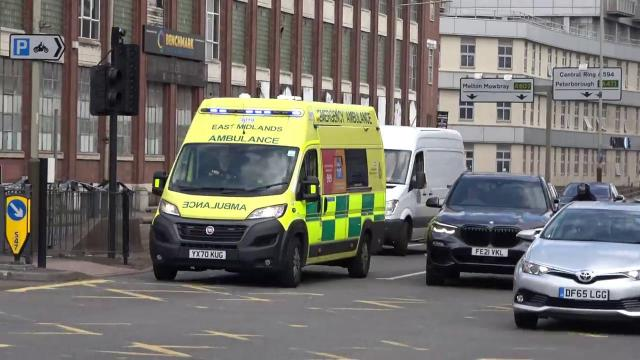police: (152, 95, 392, 282)
